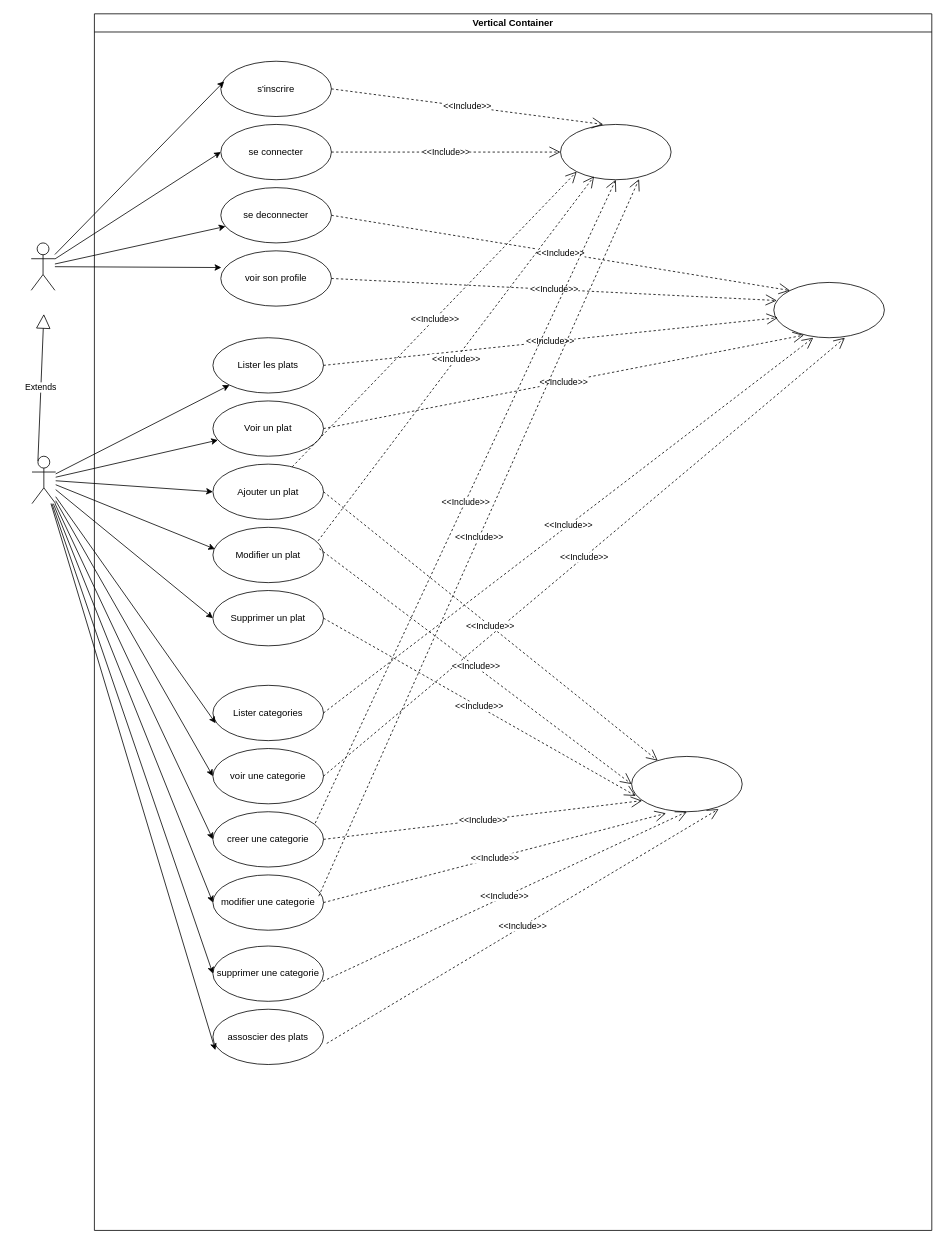
This 946x1244 diagram has some shape labels left out. The box of each missing label's shape, as (x1, y1, x2, y2) in pixels:
Administrateur: (31, 455, 56, 504)
Utilisateur: (30, 242, 55, 290)
Valider les données: (560, 124, 671, 180)
Vérifier Policy: (631, 756, 742, 812)
Vérifier Token Sanctum: (773, 282, 884, 338)
